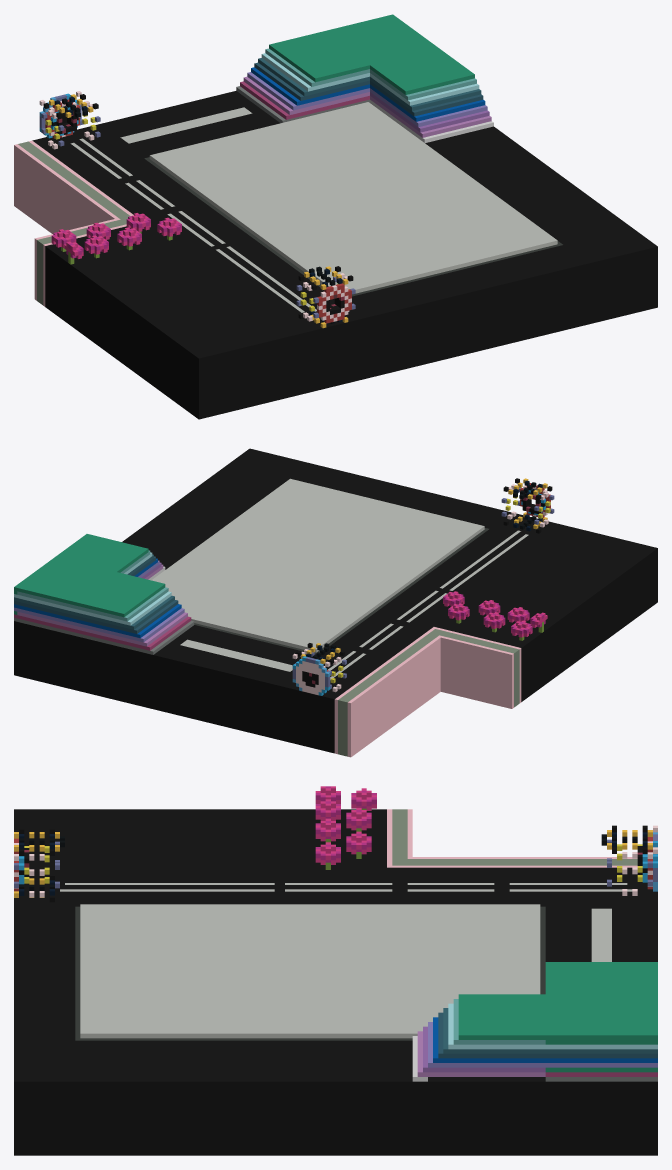
Rendered from testmap.obj.
The picture shows the model from 3 angles, top to bottom: view 1: azimuth 30°, elevation 25°; view 2: azimuth 150°, elevation 25°; view 3: azimuth 270°, elevation 25°; orthographic projection. The views are drawn at different scales.
Size of the model in its own units: 126 by 27 by 126.
1 material, 1 textured.
